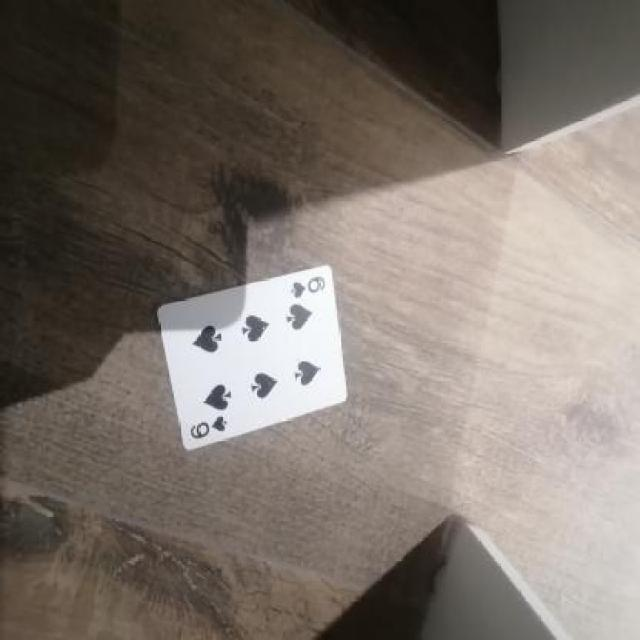6S: (271, 262, 331, 306), (184, 412, 236, 442)
